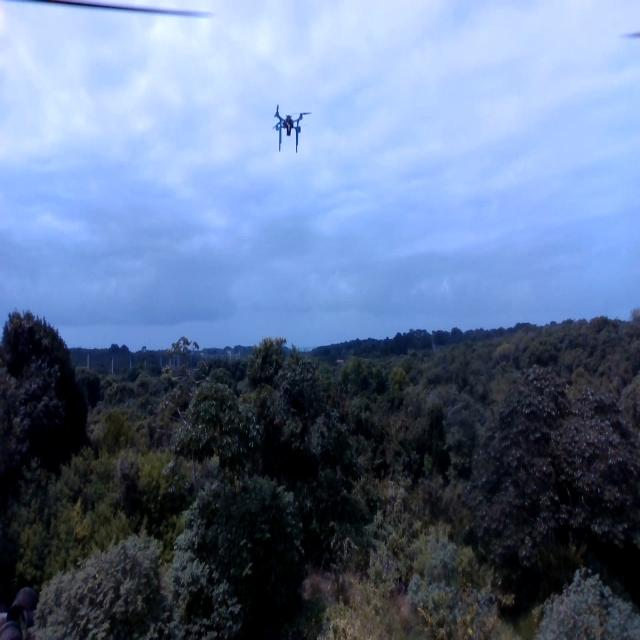-uav-: (263, 95, 317, 164)
